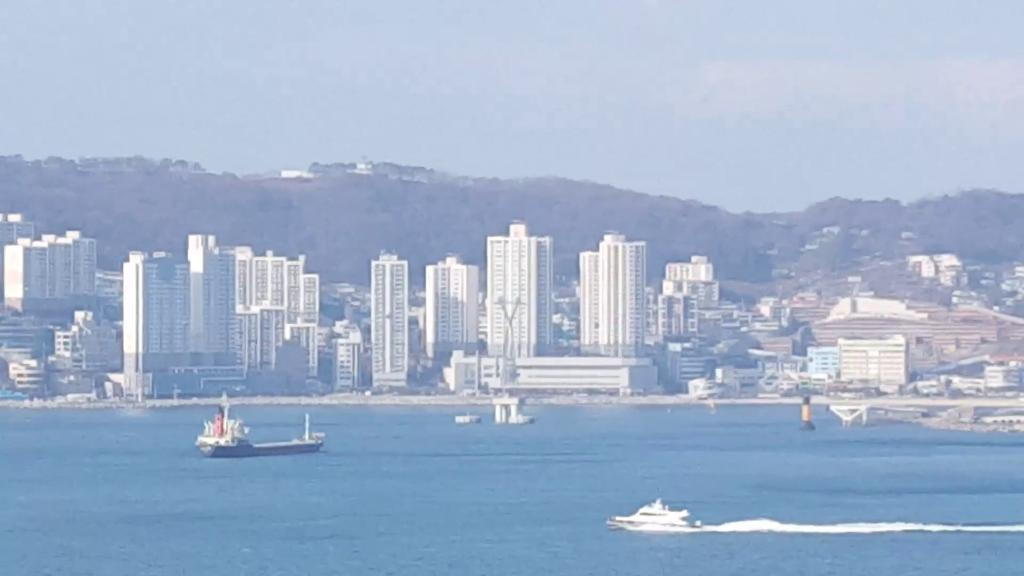PassengerShip: (596, 490, 704, 538)
